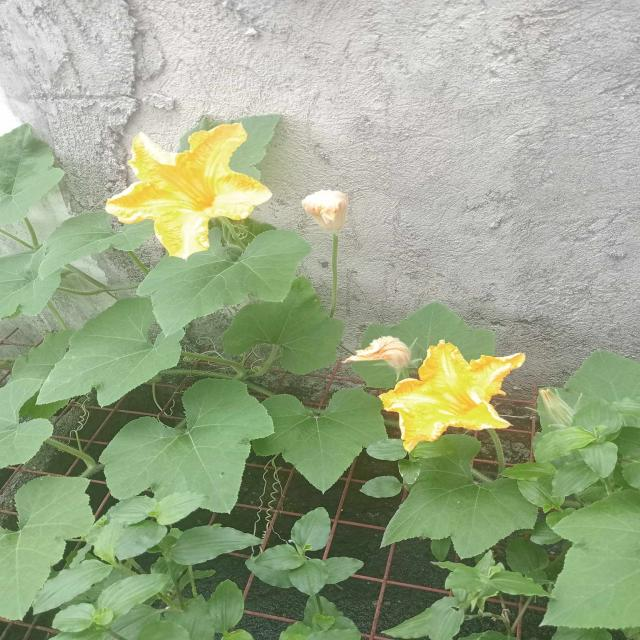flower: (102, 120, 277, 263), (374, 335, 534, 457), (339, 334, 413, 373), (300, 187, 352, 237)
